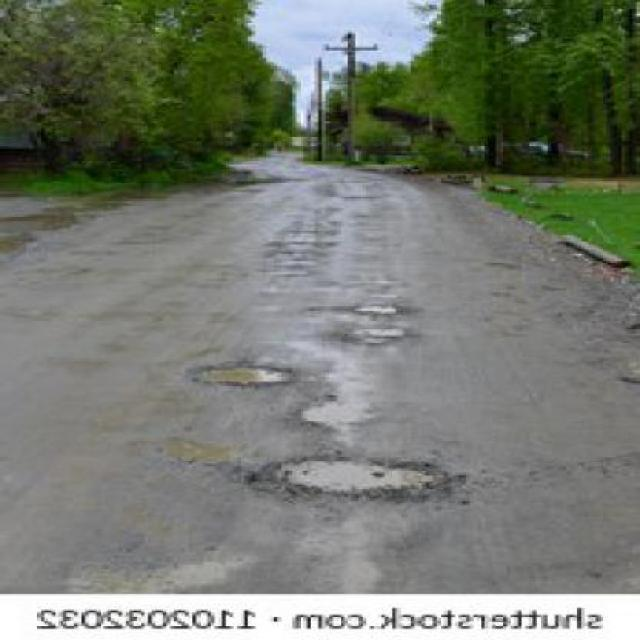pothole: (240, 442, 463, 509), (155, 350, 300, 395), (330, 320, 418, 352), (322, 294, 415, 322)
